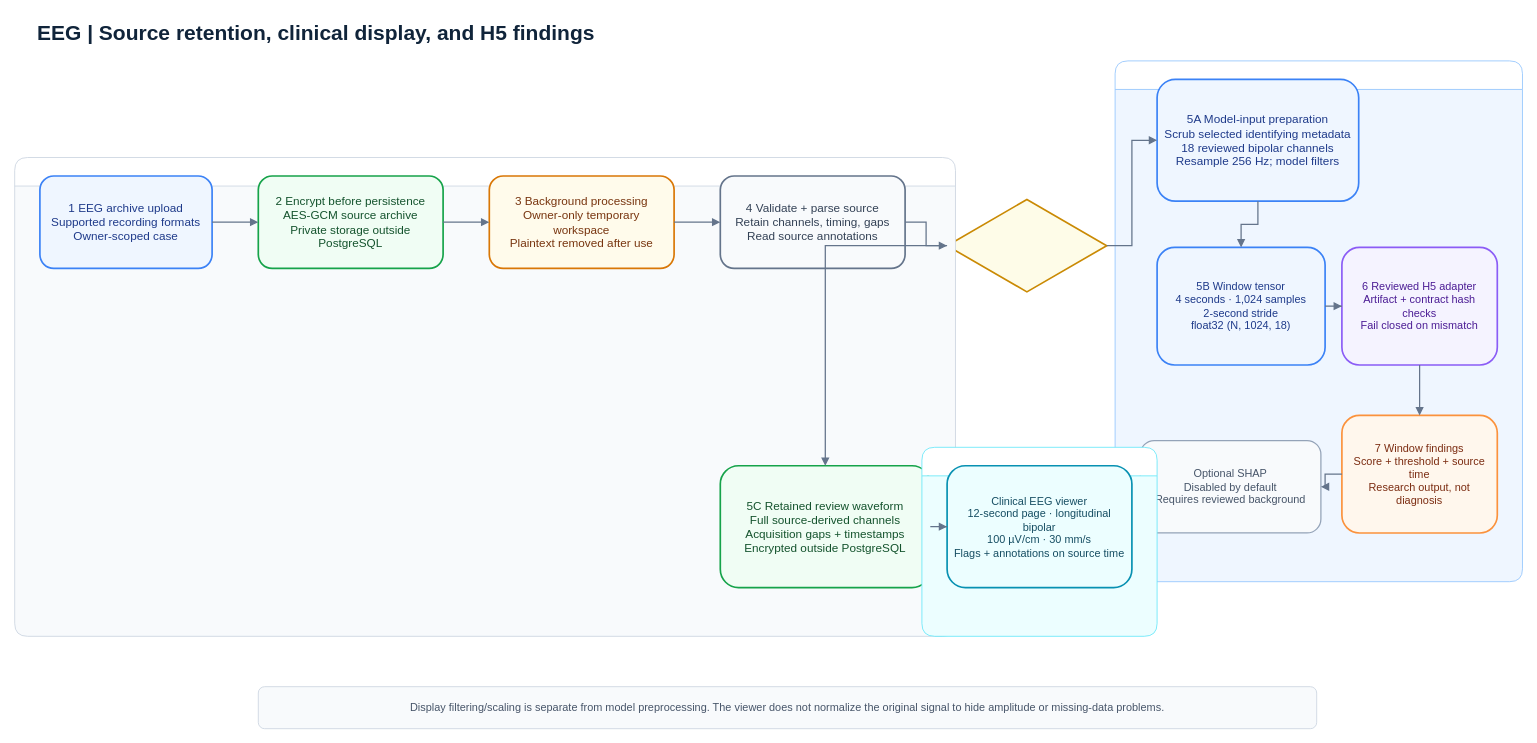
The diagram is 1537 pixels wide and 743 high, and some of its shapes have lost their labels. Here are the shapes that lost their labels. From the top down, the centre of each, then its label:
At (x=1026, y=245): "Separate paths Original waveform for review Model tensor for inference".
At (x=1318, y=321): "H5 RESEARCH INFERENCE".
At (x=485, y=396): "SOURCE HANDLING".
At (x=1039, y=541): "CLINICAL REVIEW".
